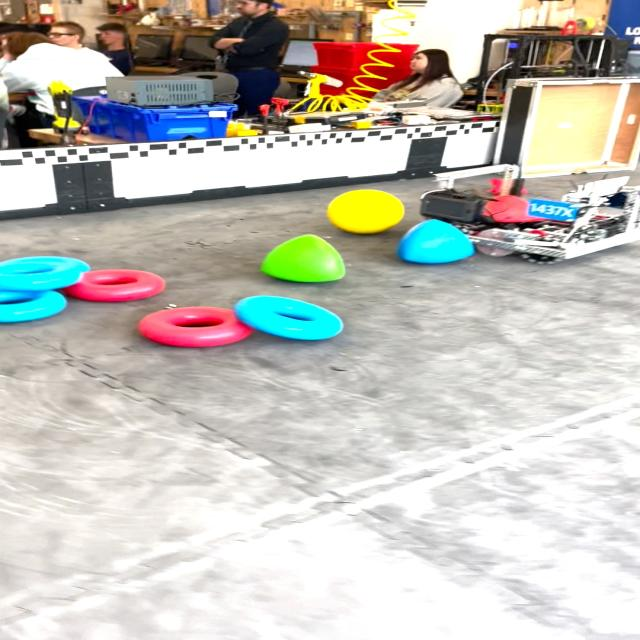Blue-Ring: (233, 296, 342, 340), (0, 256, 89, 291), (0, 290, 67, 322)
Red-Ring: (138, 306, 253, 348), (64, 269, 164, 301)
